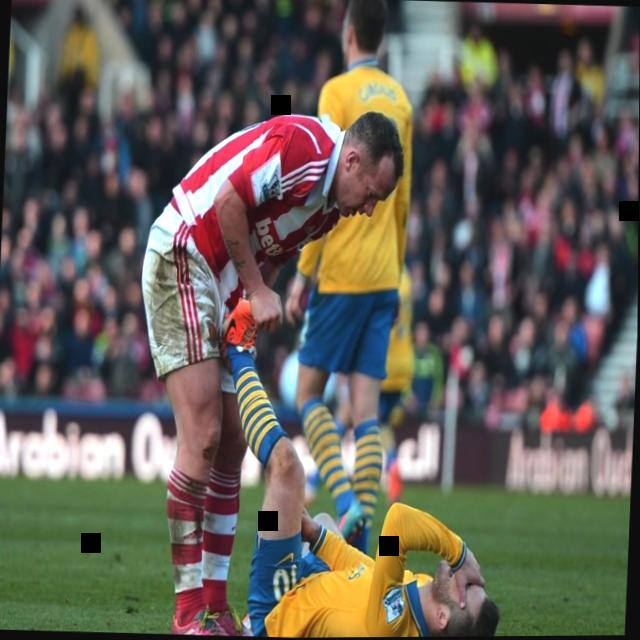Fall-Detected: (173, 303, 519, 639)
